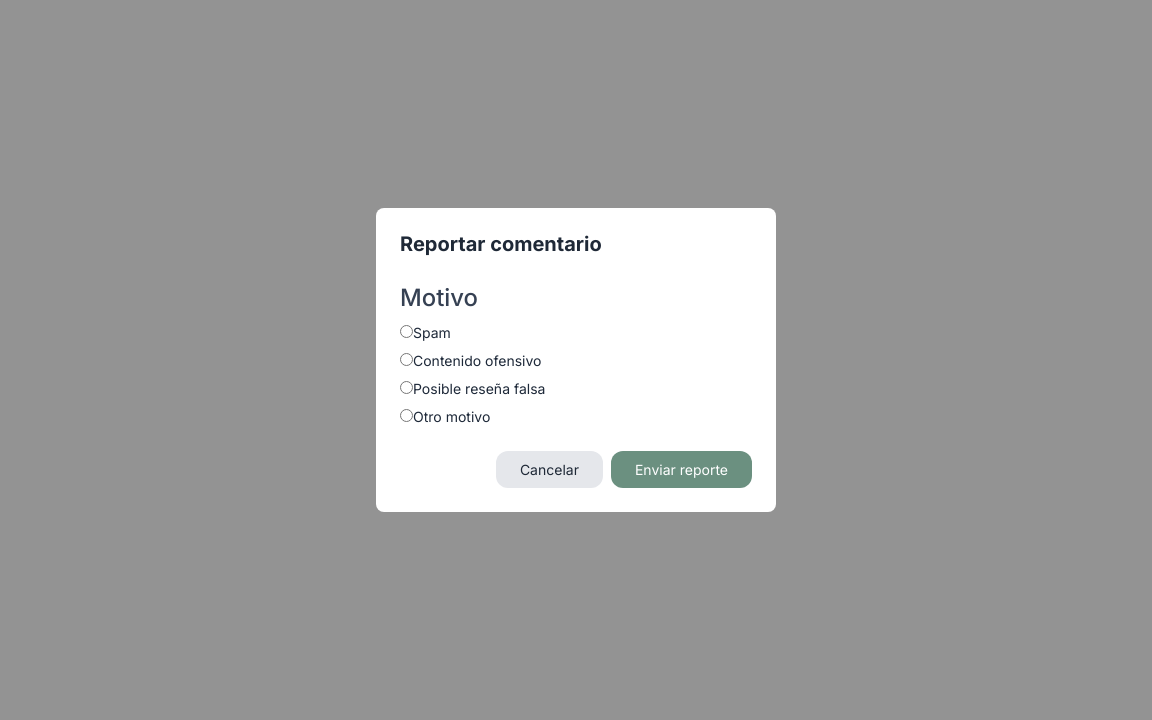
Test case: ReportModal › muestra error cuando se envía sin elegir motivo
Click the button "Enviar reporte": (681, 470) [611,451,752,488]
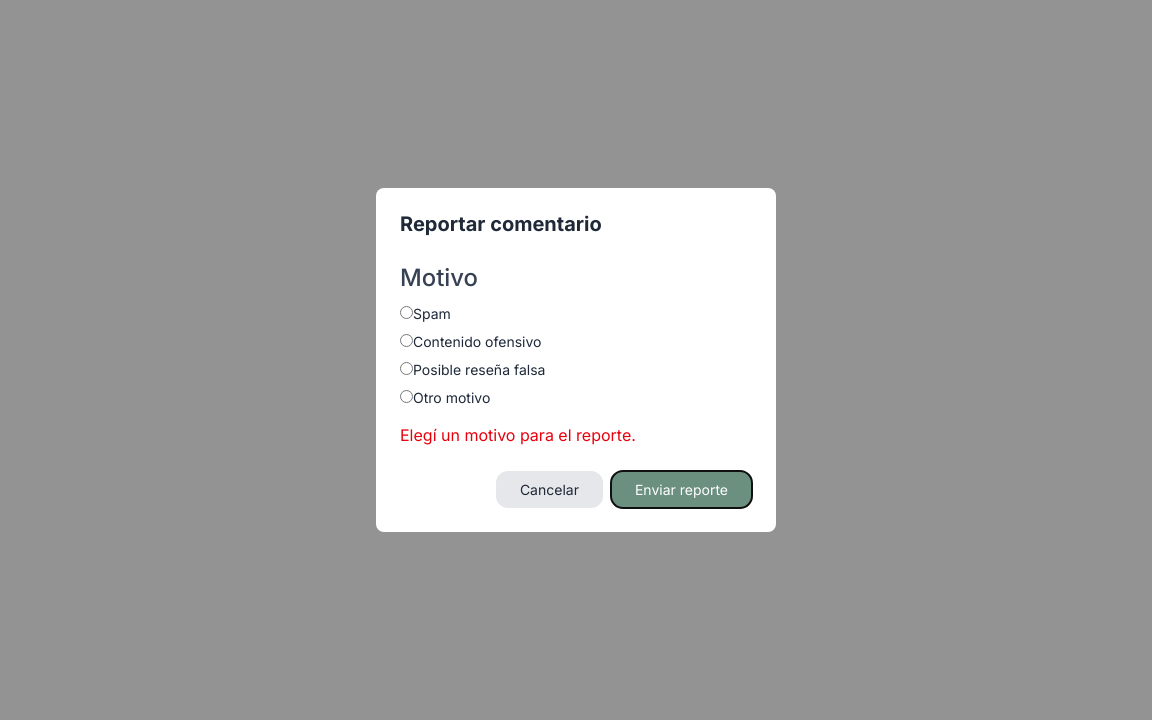
expect the text "Elegí un motivo para el reporte." is shown: met, box [400,425,636,445]
